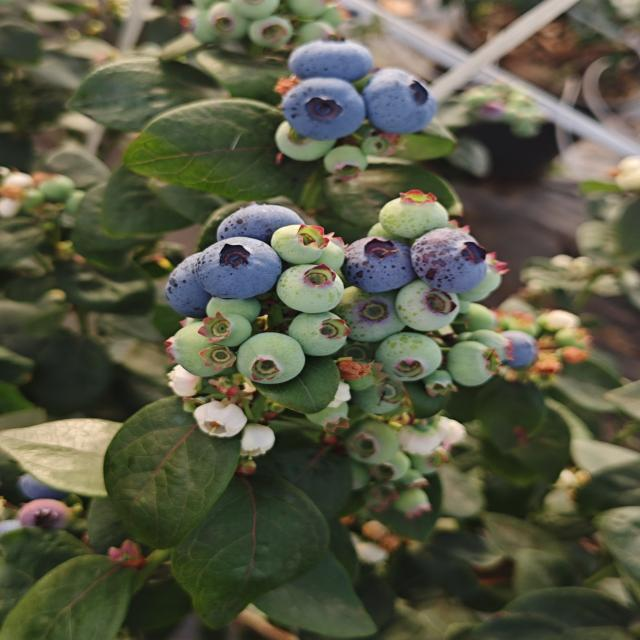ripe: (192, 235, 284, 302), (278, 76, 368, 142), (408, 226, 490, 295), (362, 66, 439, 138), (341, 234, 416, 294), (286, 37, 374, 83), (7, 454, 79, 509), (163, 262, 217, 318), (496, 324, 545, 374), (221, 206, 295, 238)
